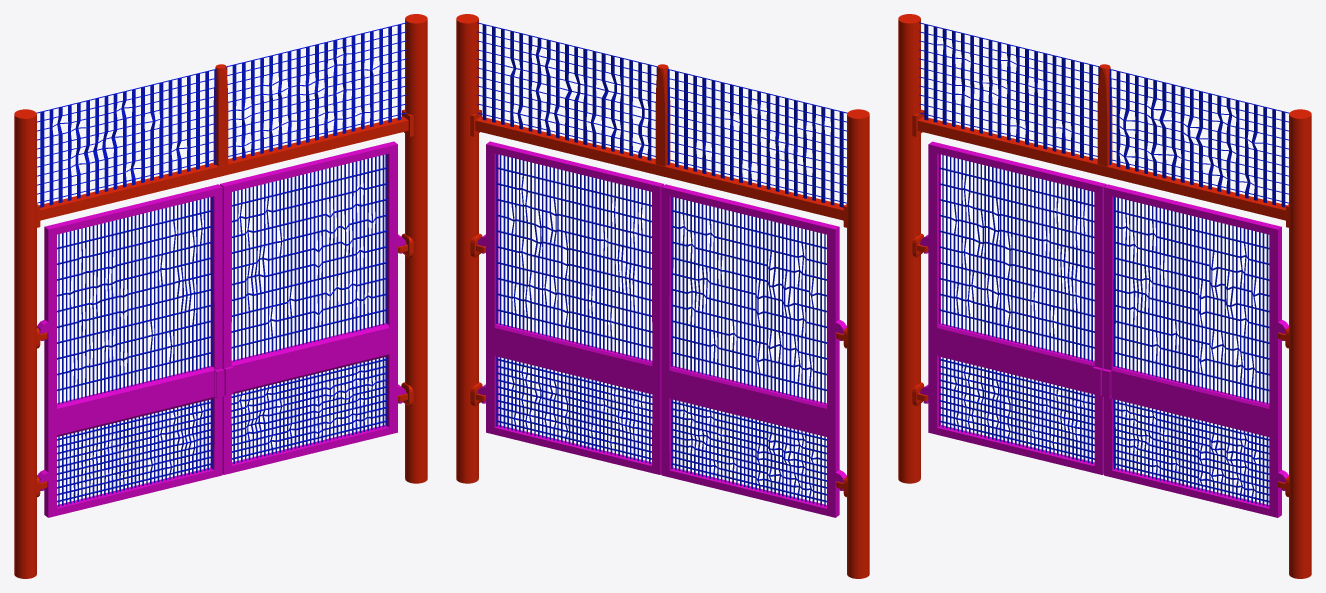
The model's file is Goal.fbx.
3 renders of one model, left to right at view 1: azimuth 30°, elevation 25°; view 2: azimuth 150°, elevation 25°; view 3: azimuth 330°, elevation 25°, orthographic.
Visible parts, largest first — view 1: Frame, F-RightGoal, F-LeftGoal, F-Frame, Left-Goal, Right-Goal; view 2: Frame, F-LeftGoal, F-RightGoal, F-Frame, Left-Goal, Right-Goal; view 3: Frame, F-RightGoal, F-LeftGoal, F-Frame, Right-Goal, Left-Goal.
Part boxes in pixels (bbox=[...]): Frame: bbox=[14, 14, 427, 578]; F-RightGoal: bbox=[231, 154, 387, 463]; F-LeftGoal: bbox=[57, 196, 212, 506]; F-Frame: bbox=[36, 22, 406, 207]; Left-Goal: bbox=[37, 184, 224, 517]; Right-Goal: bbox=[220, 141, 406, 474]; Frame: bbox=[456, 14, 869, 578]; F-LeftGoal: bbox=[671, 196, 826, 506]; F-RightGoal: bbox=[496, 154, 652, 463]; F-Frame: bbox=[477, 22, 847, 207]; Left-Goal: bbox=[661, 184, 846, 517]; Right-Goal: bbox=[477, 141, 663, 474]; Frame: bbox=[898, 14, 1311, 578]; F-RightGoal: bbox=[1113, 197, 1269, 506]; F-LeftGoal: bbox=[939, 154, 1094, 463]; F-Frame: bbox=[919, 22, 1289, 207]; Right-Goal: bbox=[1102, 184, 1288, 517]; Left-Goal: bbox=[920, 141, 1106, 474].
Bounding box in the file's own units: 840 × 900 × 40.
